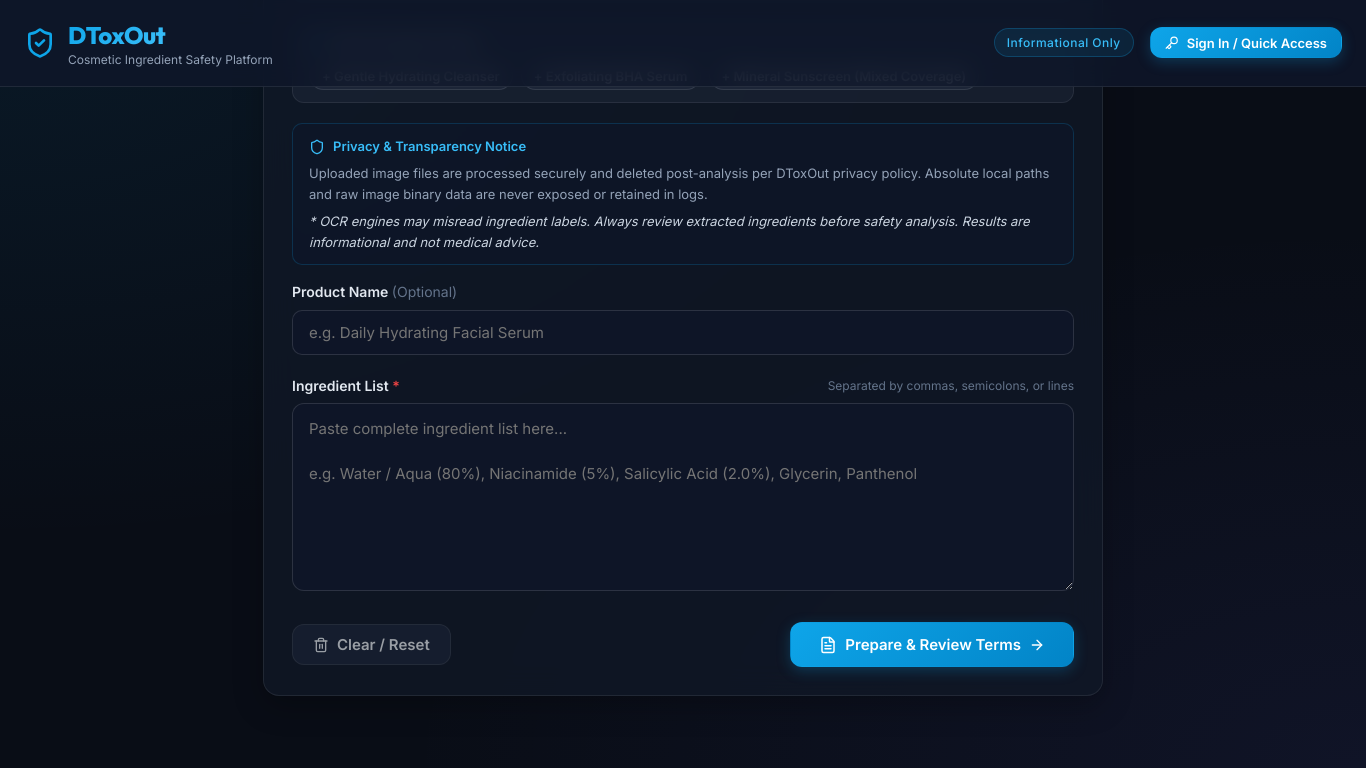
it: DToxOut Frontend App › renders landing screen with input validation
The width and height of the screenshot is (1366, 768).
(page scrolled)
Clicking without text shows validation error
Click the button "Prepare & Review Terms" at (932, 645), box [790,622,1074,667]
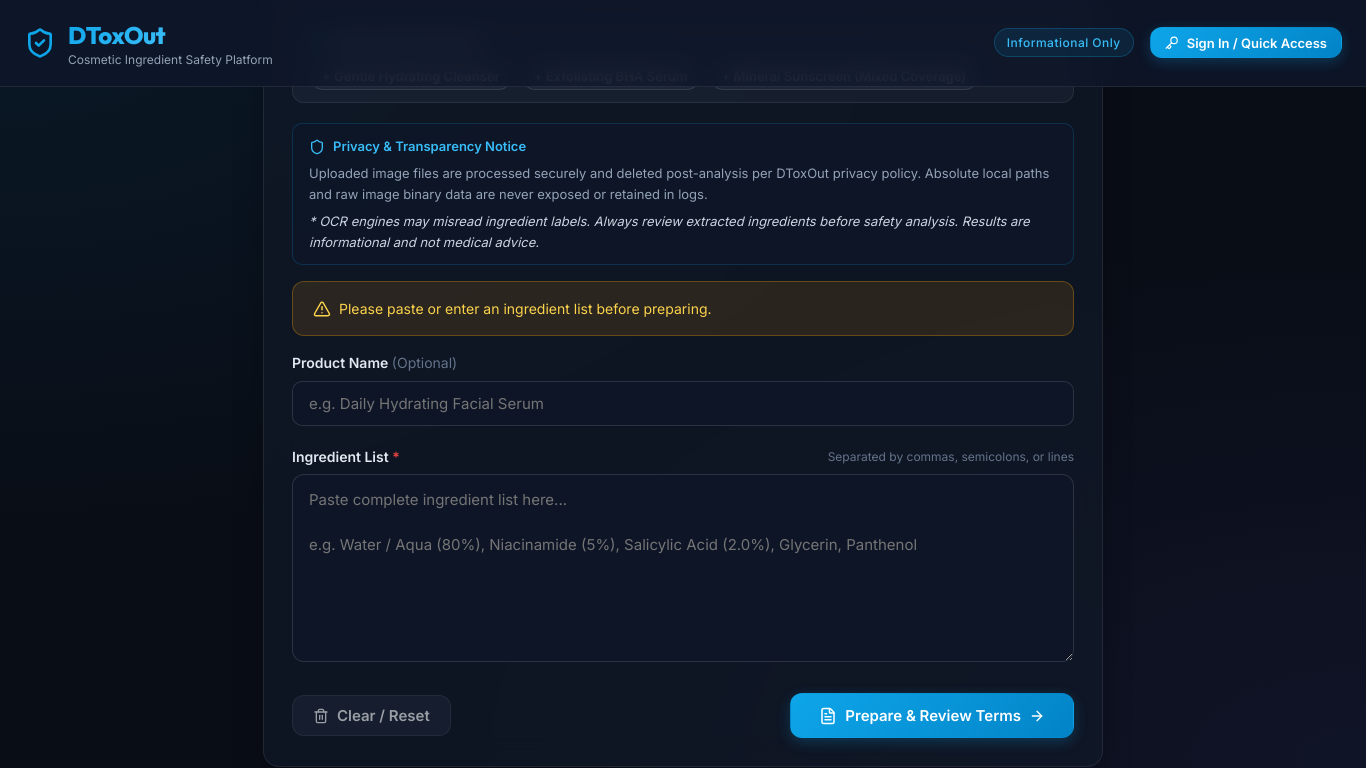
Result: the text "Please paste or enter an ingredient list before preparing." is shown at [339,298,712,319]
